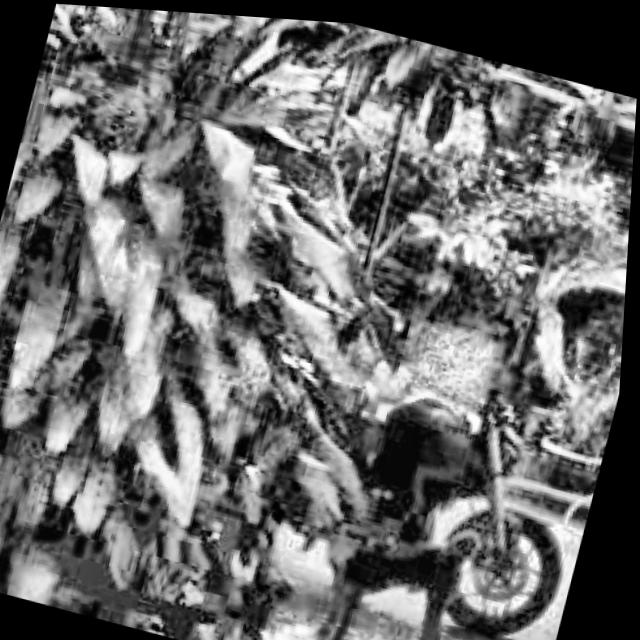motorcycle: (222, 314, 612, 640)
